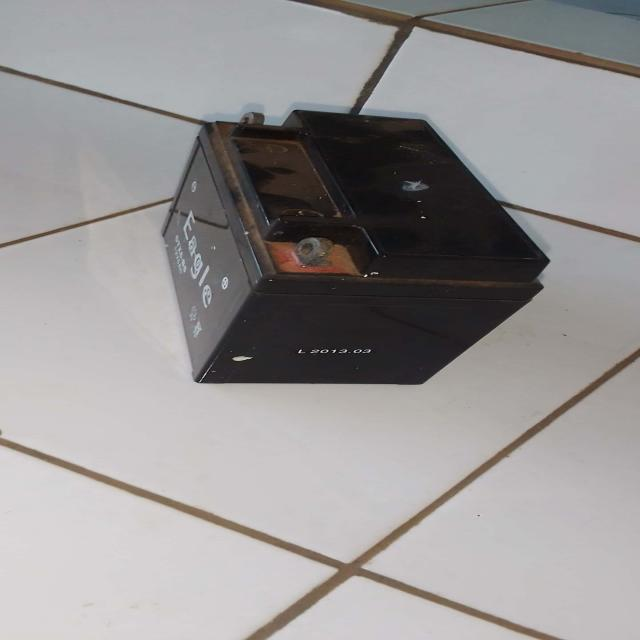Dry Cell: (158, 95, 558, 399)
